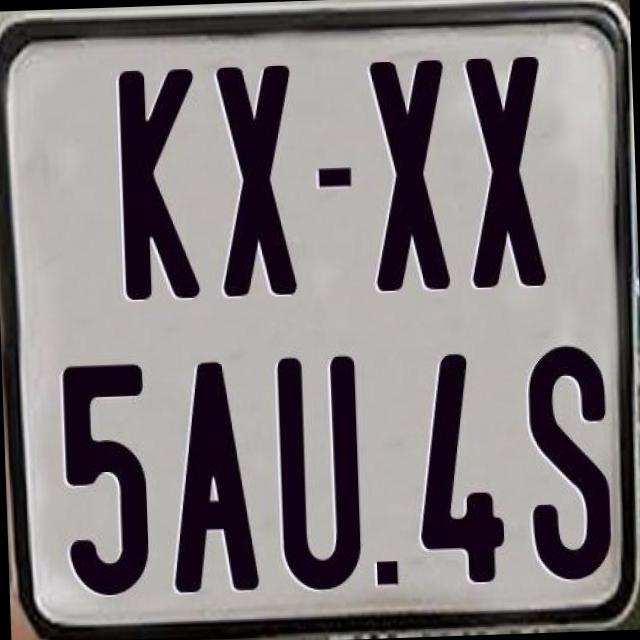4: (412, 348, 502, 582)
5: (60, 363, 154, 596)
A: (163, 359, 263, 591)
K: (118, 68, 202, 300)
S: (522, 342, 614, 580)
U: (272, 350, 364, 588)
X: (463, 53, 551, 284), (366, 55, 452, 286), (217, 64, 300, 300)
